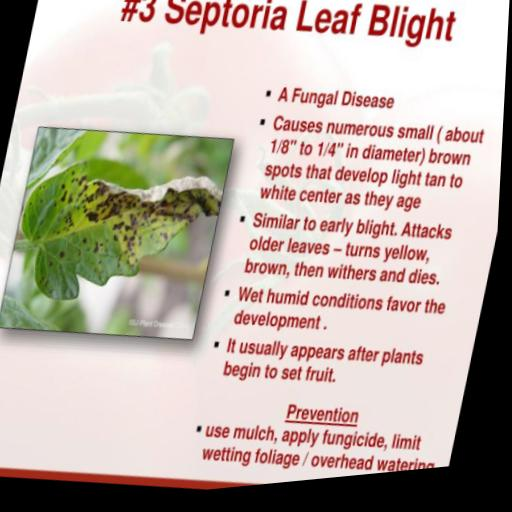Septoria: (3, 145, 226, 337)
